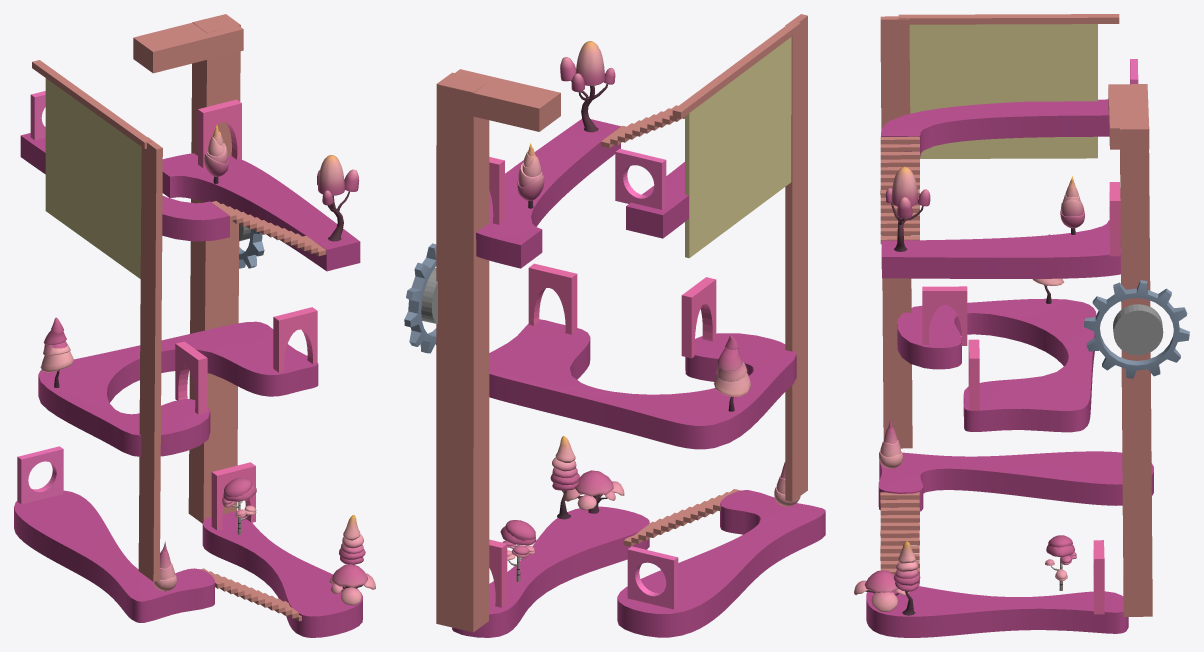
3 renders of one model, left to right at view 1: azimuth 30°, elevation 25°; view 2: azimuth 150°, elevation 25°; view 3: azimuth 270°, elevation 25°, orthographic. The views are drawn at different scales.
Parts seen in each view (by area): view 1: 物件_248, 物件_313, 物件_359, 物件_249, 物件_360, 物件_247, 物件_250, 物件_356, 物件_246, 物件_327, 物件_311, 物件_325 (+12 smaller); view 2: 物件_359, 物件_248, 物件_313, 物件_249, 物件_360, 物件_250, 物件_247, 物件_356, 物件_246, 物件_327, samor_1075_09.001, 物件_311 (+12 smaller); view 3: 物件_313, 物件_248, 物件_359, 物件_249, 物件_247, 物件_250, 物件_246, 物件_360, gear12_gears_0, 物件_355, 柱体, samor_1075_09.001 (+10 smaller).
Part boxes in pixels (x1,y1,x2,y2): 物件_248: [38, 321, 318, 456]; 物件_313: [45, 78, 141, 278]; 物件_359: [188, 14, 240, 523]; 物件_249: [14, 490, 214, 622]; 物件_360: [138, 137, 162, 581]; 物件_247: [162, 153, 360, 271]; 物件_250: [202, 511, 362, 637]; 物件_356: [133, 22, 243, 73]; 物件_246: [20, 133, 229, 241]; 物件_327: [273, 307, 317, 372]; 物件_311: [17, 446, 63, 504]; 物件_325: [198, 99, 241, 167]; 物件_359: [436, 72, 489, 632]; 物件_248: [489, 319, 796, 449]; 物件_313: [685, 37, 791, 258]; 物件_249: [617, 490, 825, 637]; 物件_360: [785, 14, 807, 501]; 物件_250: [452, 506, 649, 637]; 物件_247: [476, 119, 620, 268]; 物件_356: [438, 69, 560, 131]; 物件_246: [626, 162, 688, 238]; 物件_327: [528, 263, 577, 334]; samor_1075_09.001: [560, 41, 615, 132]; 物件_311: [627, 546, 678, 609]; 物件_313: [909, 24, 1097, 158]; 物件_248: [897, 298, 1096, 432]; 物件_359: [1119, 112, 1152, 616]; 物件_249: [878, 451, 1153, 511]; 物件_247: [881, 220, 1120, 278]; 物件_250: [866, 586, 1128, 637]; 物件_246: [881, 99, 1109, 156]; 物件_360: [880, 16, 912, 448]; gear12_gears_0: [1084, 280, 1189, 378]; 物件_355: [898, 14, 1119, 24]; 柱体: [1113, 304, 1163, 355]; samor_1075_09.001: [885, 166, 930, 251].
Bounding box in the file's own units: 2172 × 4341 × 2548.
Materials: 8 (1 with a texture image).
